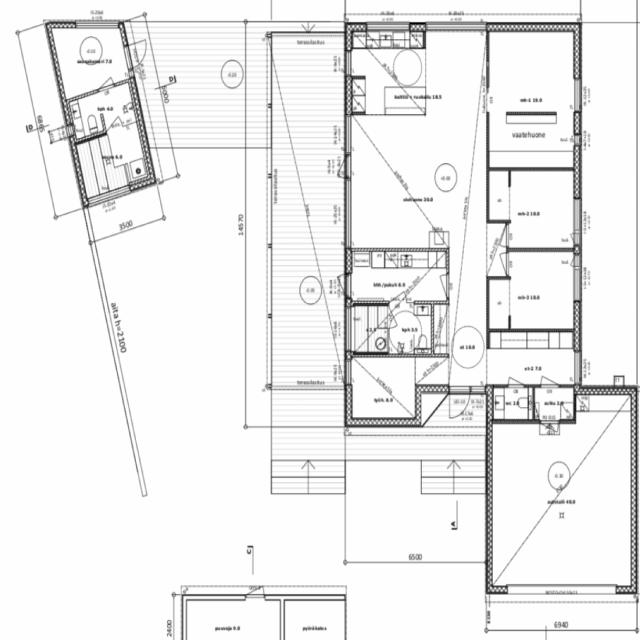door: (340, 606, 370, 638), (123, 37, 152, 70), (449, 384, 470, 421), (93, 61, 115, 92), (325, 273, 352, 298), (325, 154, 352, 179), (244, 568, 264, 601), (104, 106, 123, 133), (540, 420, 558, 448), (428, 275, 449, 297), (489, 225, 509, 247), (489, 253, 509, 274), (541, 363, 558, 387), (391, 280, 406, 304), (387, 308, 405, 328), (508, 365, 523, 387)
